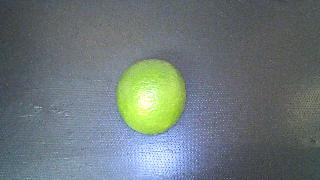EXPORTACION: (116, 59, 186, 134)
